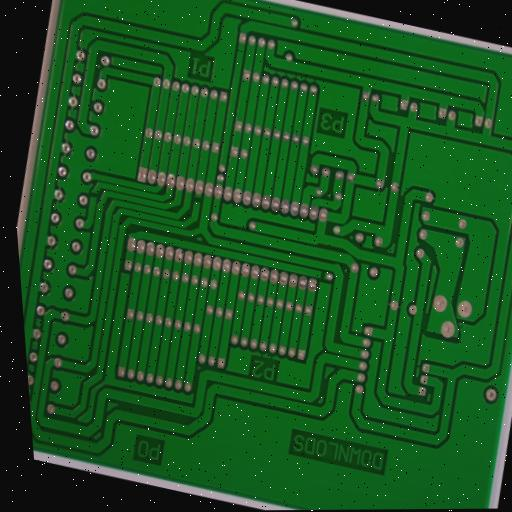open_circuit: (86, 188, 102, 203), (315, 268, 329, 282), (191, 194, 203, 205)
